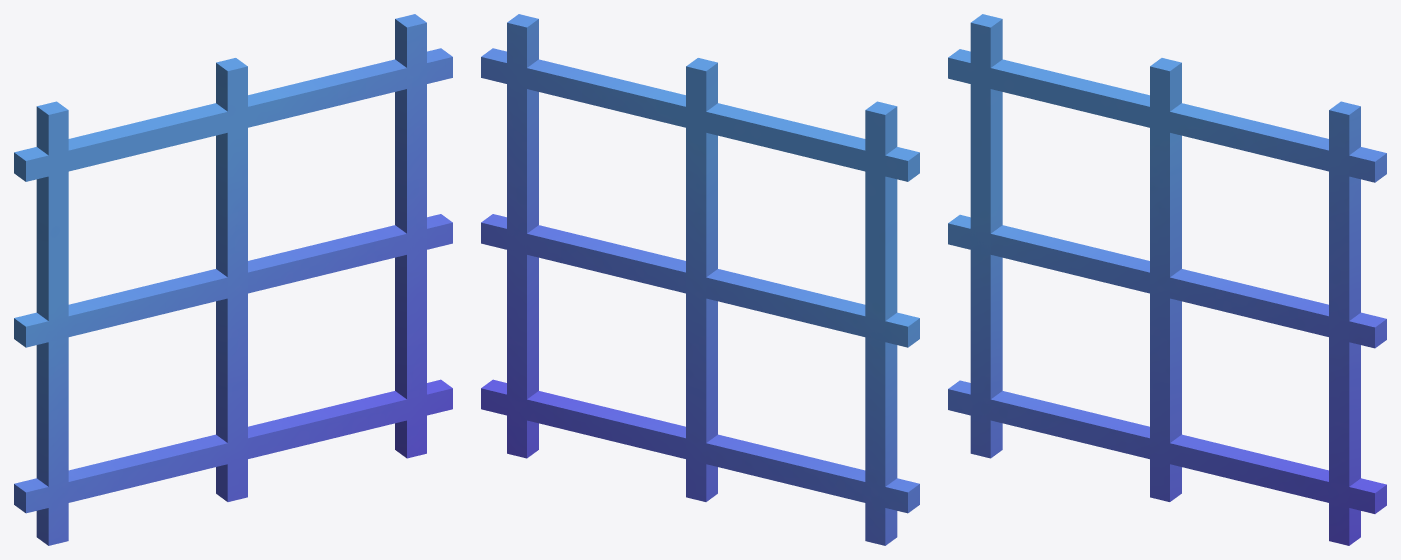
Rendered from POL0110033.fbx.
The picture shows the model from 3 angles, left to right: view 1: azimuth 30°, elevation 25°; view 2: azimuth 150°, elevation 25°; view 3: azimuth 330°, elevation 25°; orthographic projection.
Parts seen in each view (by area): view 1: smPOL0110033; view 2: smPOL0110033; view 3: smPOL0110033.
Part boxes in pixels (x1,y1,x2,y2): smPOL0110033: (14, 14, 452, 545); smPOL0110033: (481, 14, 919, 545); smPOL0110033: (948, 14, 1386, 545).
Bounding box in the file's own units: 147 × 141 × 7.06.
Materials: 1 (1 with a texture image).
